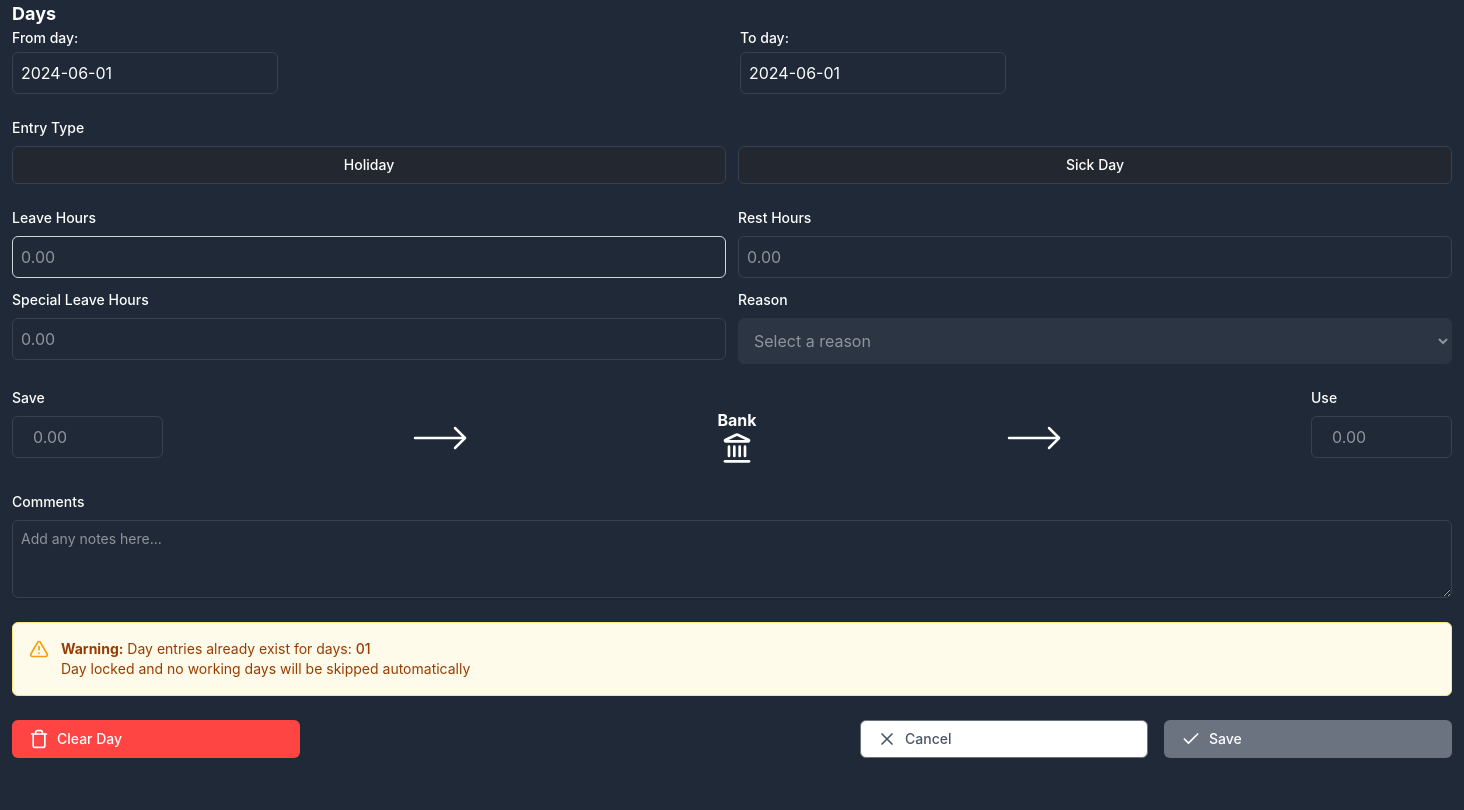
Test: EditDayEntry › rejects a bank deposit that leaves effective hours below scheduled hours
Type "1" into the number field with test id "save-bank-hour-input".
click(88, 437); type("1")  # box top-left (12, 416), bottom-right (163, 458)
(page scrolled)
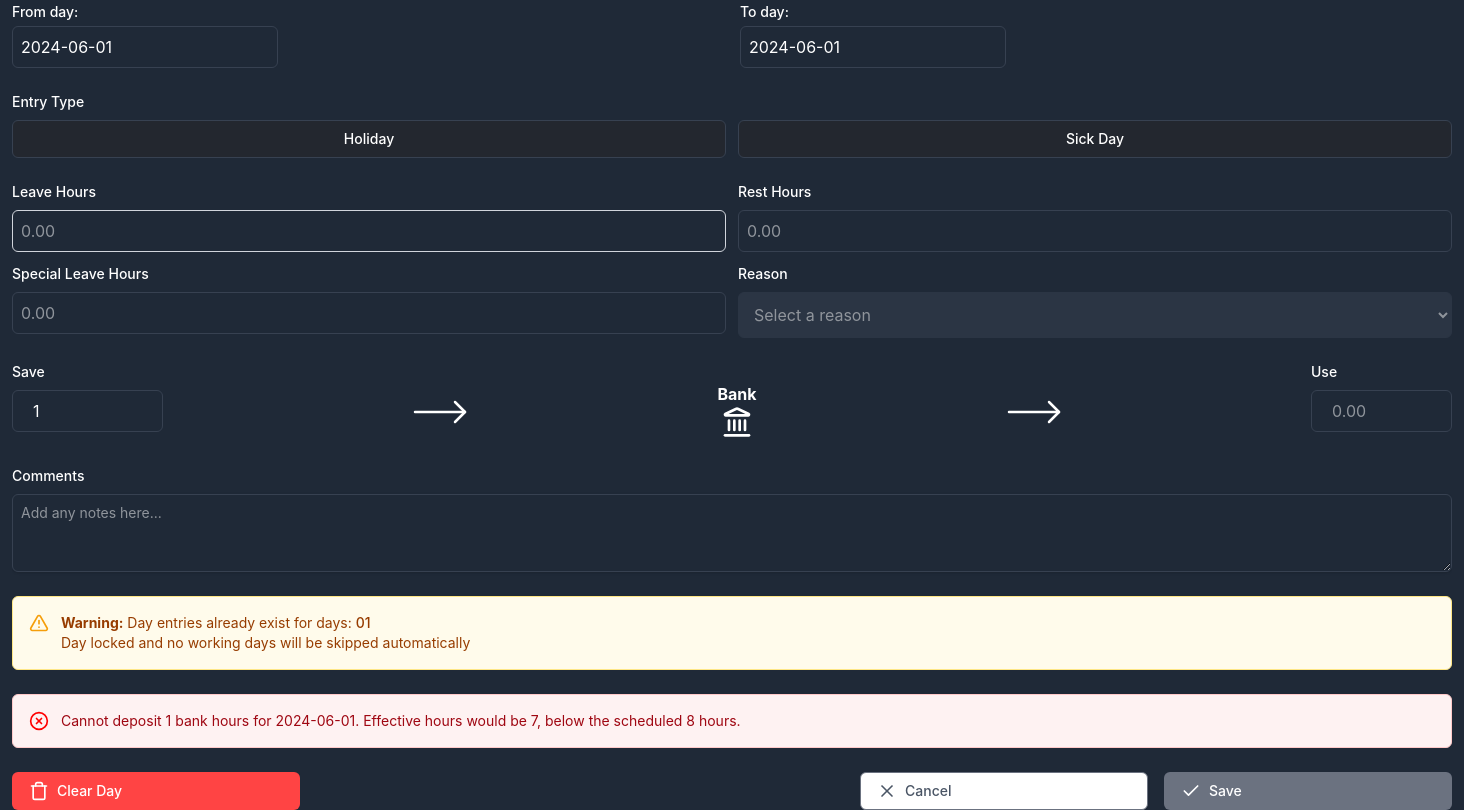
Expected: the button with test id "day-entry-submit-button" is disabled, top-left (1164, 772), bottom-right (1452, 809)
Expected: the text "Cannot deposit 1 bank hours" is shown, top-left (61, 712), bottom-right (741, 729)
